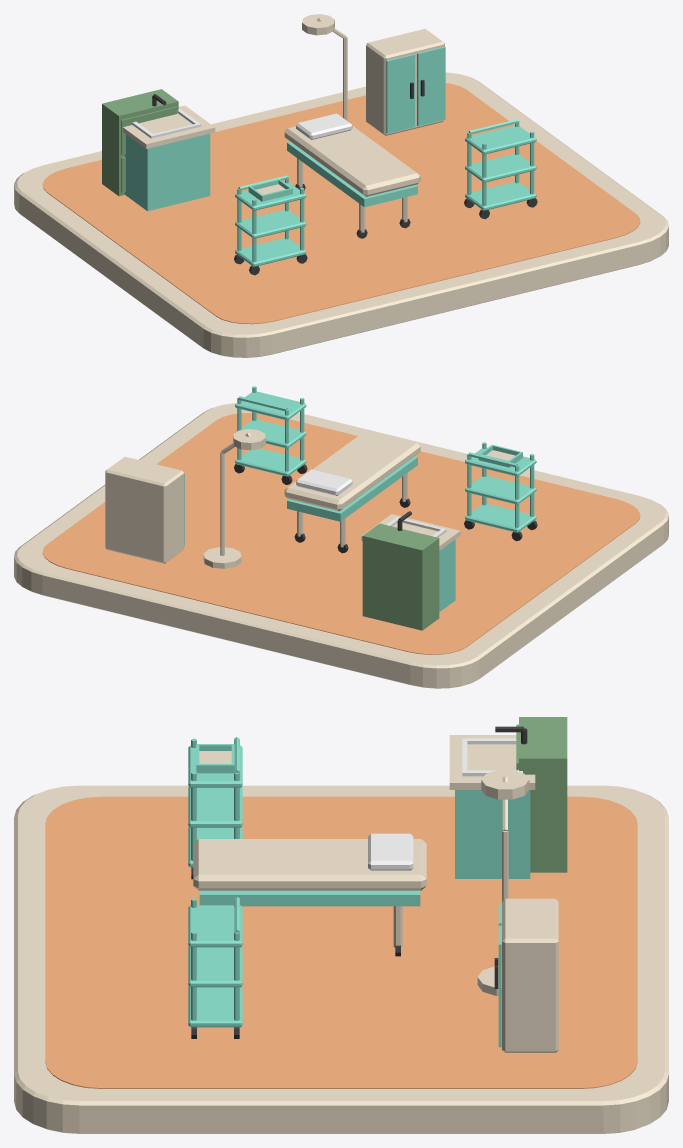
3 renders of one model, top to bottom at view 1: azimuth 30°, elevation 25°; view 2: azimuth 150°, elevation 25°; view 3: azimuth 270°, elevation 25°, orthographic. The views are drawn at different scales.
Visible parts, largest first — view 1: COM-02 Floor Surface, COM-01 Rounded Base Direct, Cabinet, Mattress, Cabinet.001, Equipment case, Door.001, Door, Counter, Base, Tray.005, Tray.004 (+6 smaller); view 2: COM-02 Floor Surface, COM-01 Rounded Base Direct, Equipment case, Cabinet.001, Mattress, Base, Tray.001, Tray, Tray.003, Tray.005, Cabinet, Pillow (+6 smaller); view 3: COM-02 Floor Surface, COM-01 Rounded Base Direct, Mattress, Equipment case, Cabinet.001, Cabinet, Base, Counter, Tray.005, Tray.003, Tray.004, Tray.001 (+4 smaller).
Part boxes in pixels (<box>): COM-02 Floor Surface: <box>42,83,640,324</box>; COM-01 Rounded Base Direct: <box>14,72,668,357</box>; Cabinet: <box>125,133,210,211</box>; Mattress: <box>284,126,420,196</box>; Cabinet.001: <box>102,89,178,196</box>; Equipment case: <box>366,28,444,135</box>; Door.001: <box>417,46,445,126</box>; Door: <box>386,54,414,133</box>; Counter: <box>123,105,215,148</box>; Base: <box>287,142,417,207</box>; Tray.005: <box>465,125,536,154</box>; Tray.004: <box>465,153,536,182</box>; COM-02 Floor Surface: <box>42,413,640,654</box>; COM-01 Rounded Base Direct: <box>14,403,668,688</box>; Equipment case: <box>105,456,184,563</box>; Cabinet.001: <box>362,523,439,630</box>; Mattress: <box>284,430,420,511</box>; Base: <box>287,456,417,521</box>; Tray.001: <box>465,475,536,504</box>; Tray: <box>465,504,536,532</box>; Tray.003: <box>235,448,306,476</box>; Tray.005: <box>235,391,306,420</box>; Cabinet: <box>439,539,455,611</box>; Pillow: <box>296,469,352,495</box>; COM-02 Floor Surface: <box>45,796,637,1088</box>; COM-01 Rounded Base Direct: <box>14,785,668,1133</box>; Mattress: <box>193,839,426,890</box>; Equipment case: <box>502,898,558,1052</box>; Cabinet.001: <box>516,717,567,872</box>; Cabinet: <box>455,790,530,878</box>; Base: <box>199,890,420,906</box>; Counter: <box>449,735,535,789</box>; Tray.005: <box>188,905,242,947</box>; Tray.003: <box>188,986,242,1027</box>; Tray.004: <box>188,946,242,987</box>; Tray.001: <box>188,787,242,827</box>.
Bounding box in the file's own units: 6 × 1.96 × 5.2.
1 material, 1 textured.
